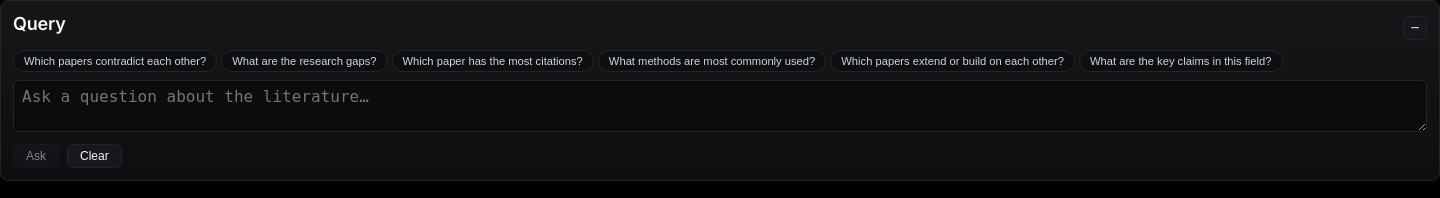
Test: QueryInterface › disables Ask when the input is empty and enables it after typing
The image size is (1440, 198).
Expected: the button with test id "query-ask" is disabled, [13,144,59,168]
Type "question?" into the text box with test id "query-input". click: (720, 106)
box: [13,80,1427,132]
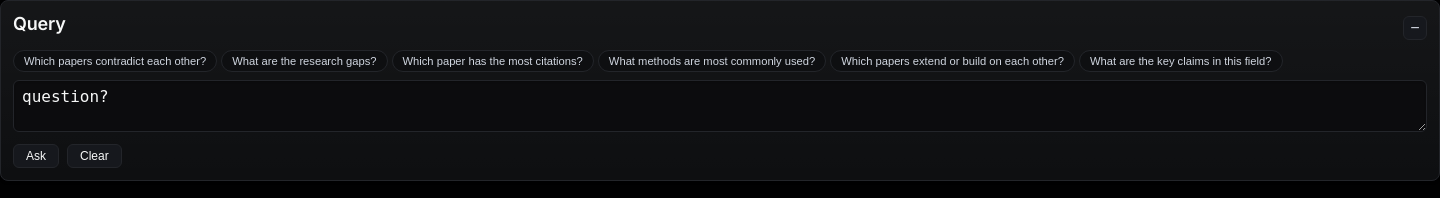
Expected: the button with test id "query-ask" is enabled, [13,144,59,168]
